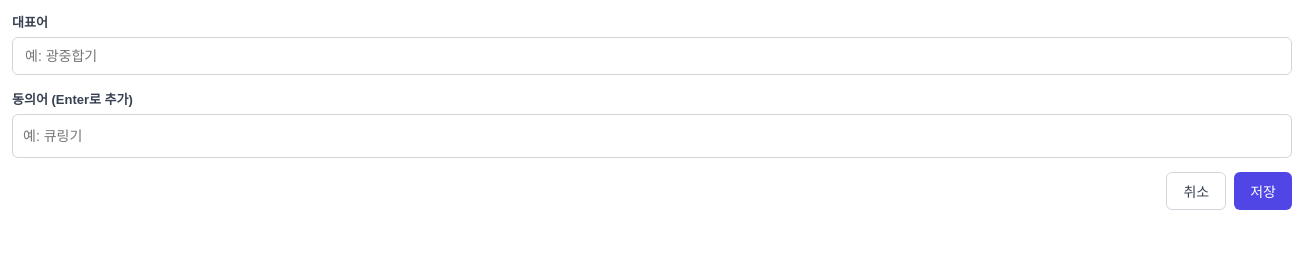
Test: SynonymGroupForm › 대표어 점유 충돌 시 노란 경고 배너 표시
This screenshot has width=1304, height=266.
In the field labelled "대표어": (652, 56) [12, 37, 1292, 75], type "큐링기"
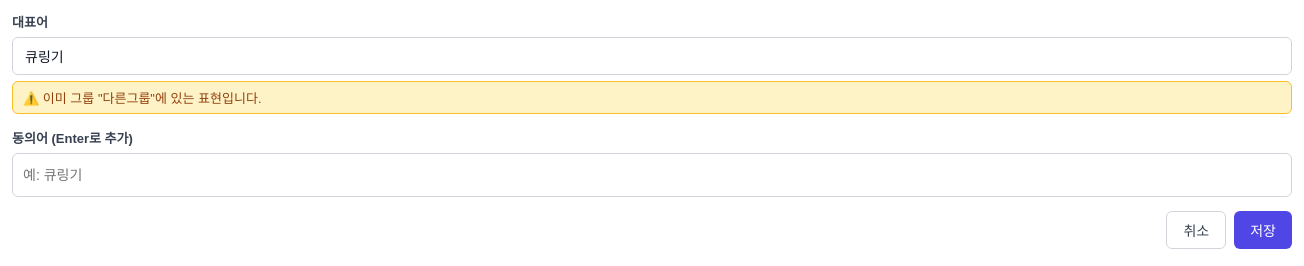
Result: the text "⚠️ 이미 그룹 \"다른그룹\"에 있는 표현입니다." is shown at [12, 81, 1292, 114]
